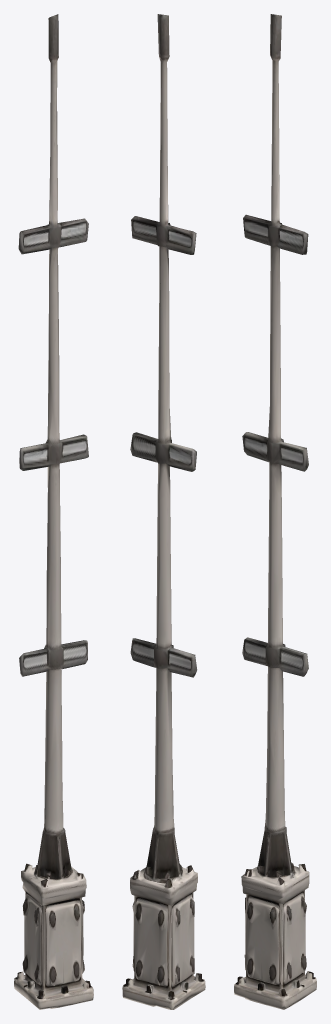
File: antenna.glb
The picture shows the model from 3 angles, left to right: view 1: azimuth 30°, elevation 25°; view 2: azimuth 150°, elevation 25°; view 3: azimuth 330°, elevation 25°; orthographic projection.
Visible parts, largest first — view 1: tripo_node_b586e246-9148-4658-83fd-5fac7dd80187; view 2: tripo_node_b586e246-9148-4658-83fd-5fac7dd80187; view 3: tripo_node_b586e246-9148-4658-83fd-5fac7dd80187.
Part boxes in pixels (left/top/right/bottom): tripo_node_b586e246-9148-4658-83fd-5fac7dd80187: left=14, top=14, right=93, bottom=1009; tripo_node_b586e246-9148-4658-83fd-5fac7dd80187: left=122, top=14, right=205, bottom=1009; tripo_node_b586e246-9148-4658-83fd-5fac7dd80187: left=234, top=14, right=316, bottom=1009.
Size of the model in its own units: 0.427 by 6 by 0.3552.
1 material, 1 textured.
